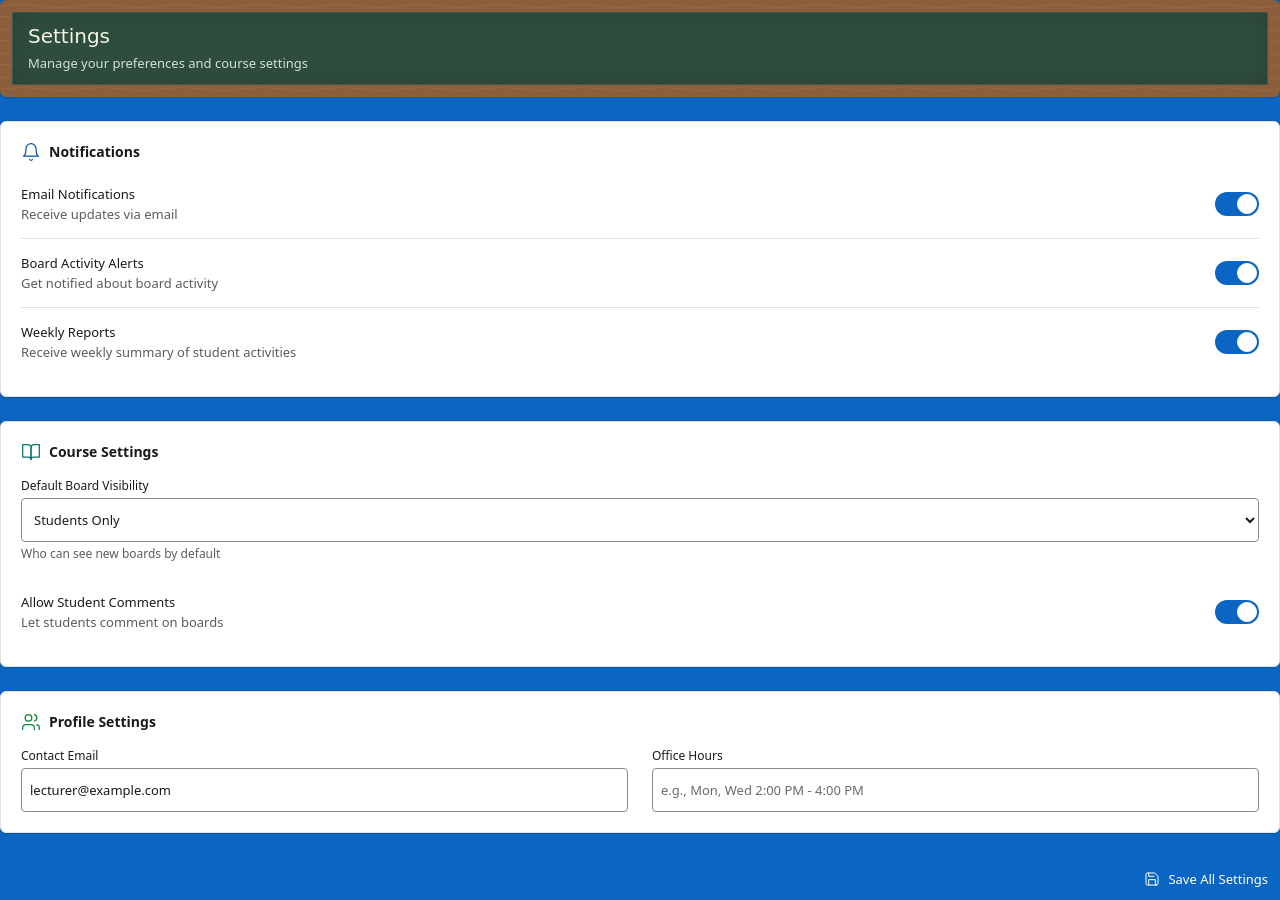
Test: LecturerSettingsPage › a failed save shows an alert and no success message
Click the button "Save All Settings".
click(1206, 879)  # box [1132,857,1279,899]
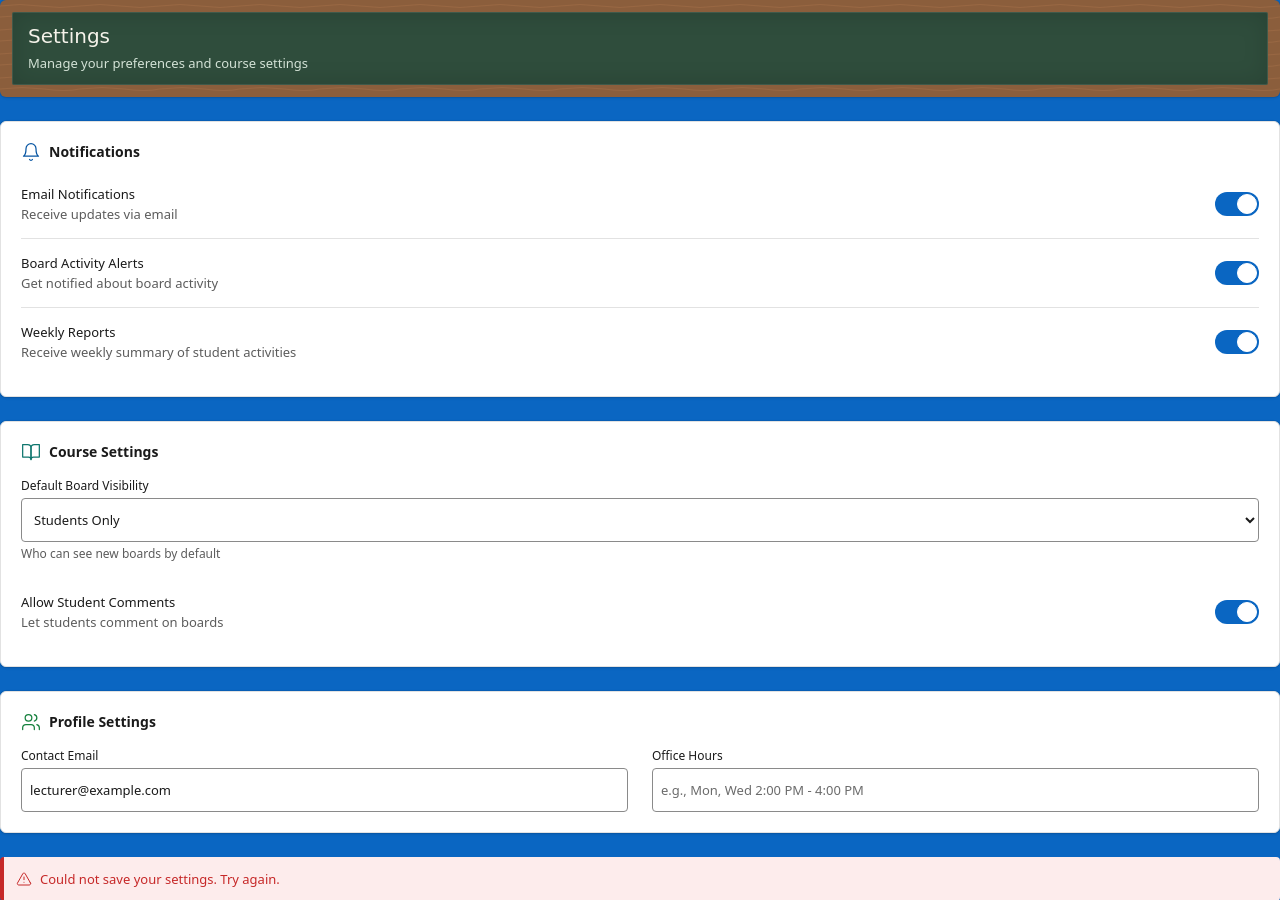
Check: the message reads "Could not save your settings. Try again.", box [40,870,280,888]
